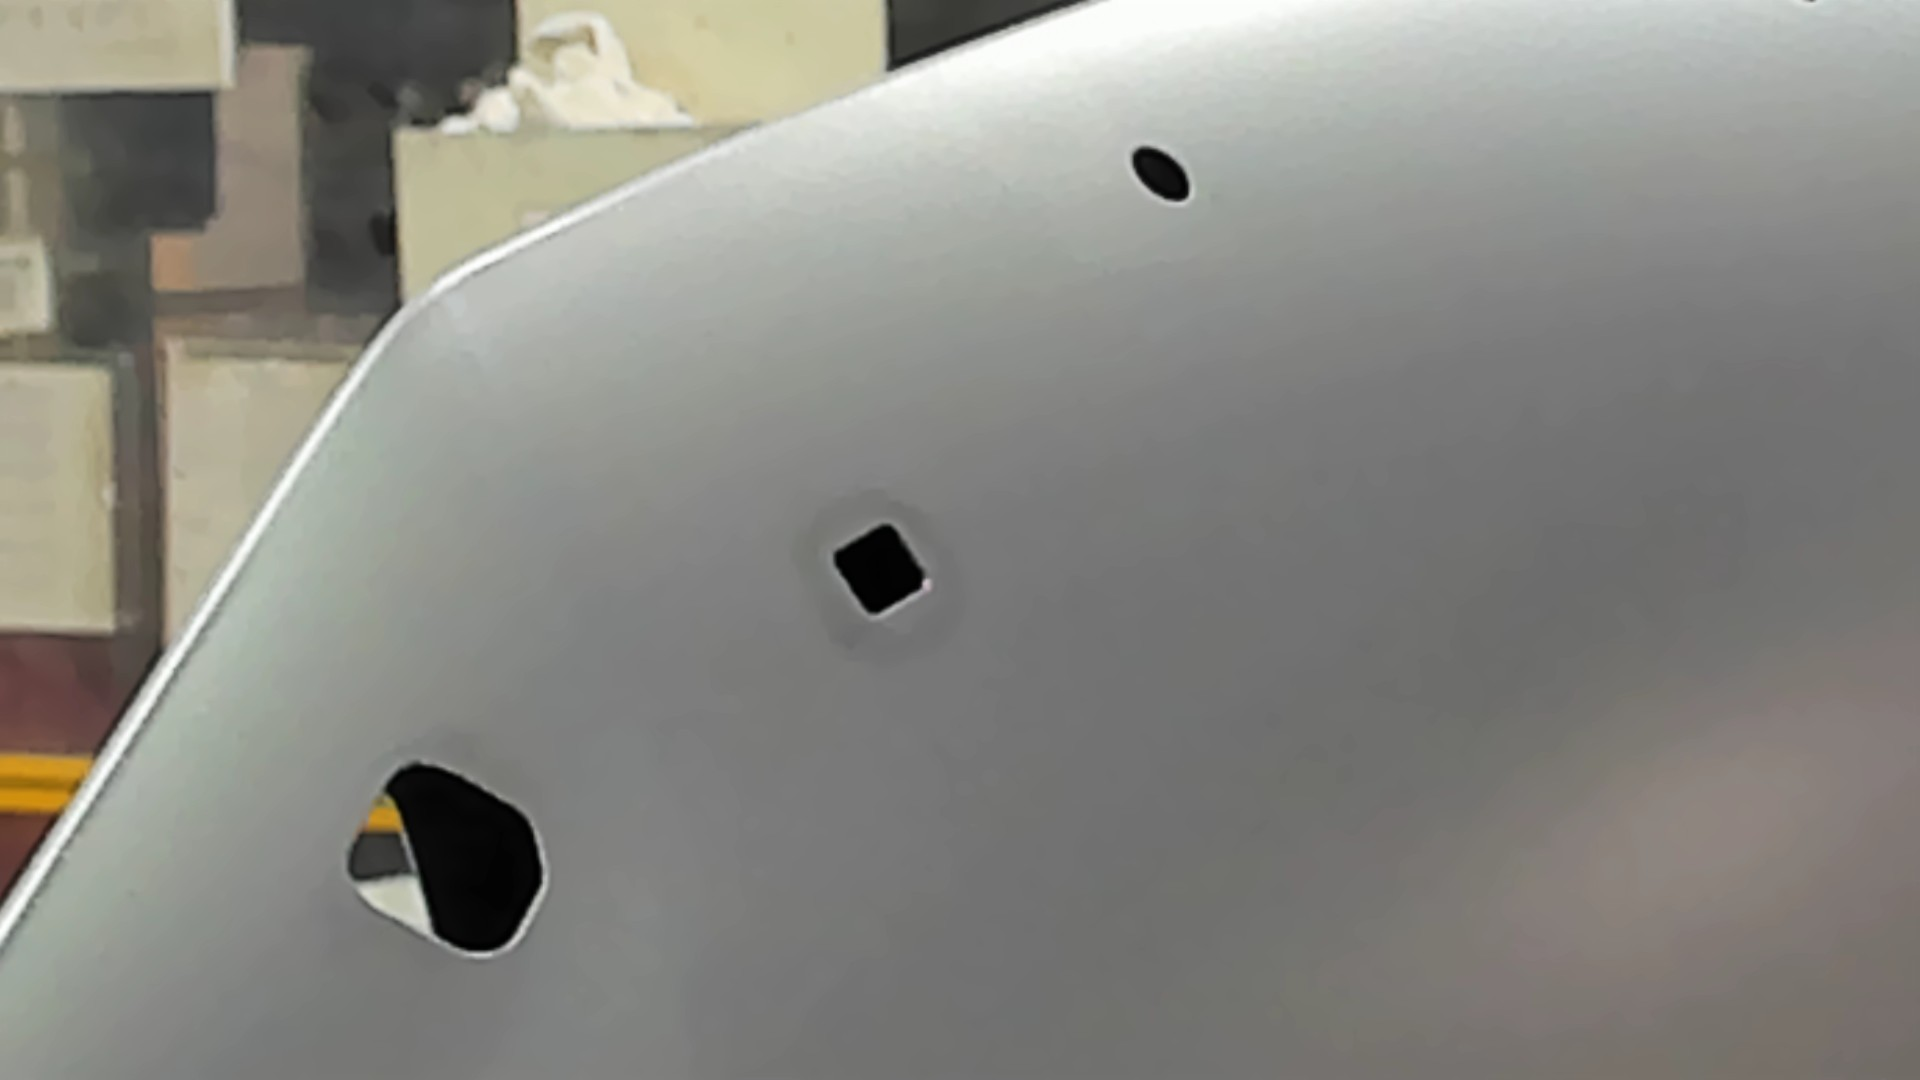chico: (1126, 140, 1197, 207)
grande: (342, 758, 553, 965)
mediano: (827, 520, 935, 625)
